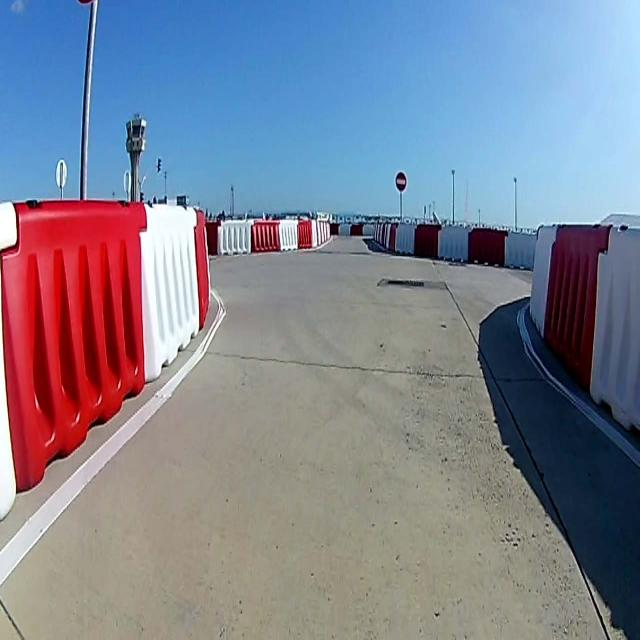girisyok: (395, 173, 407, 191)
